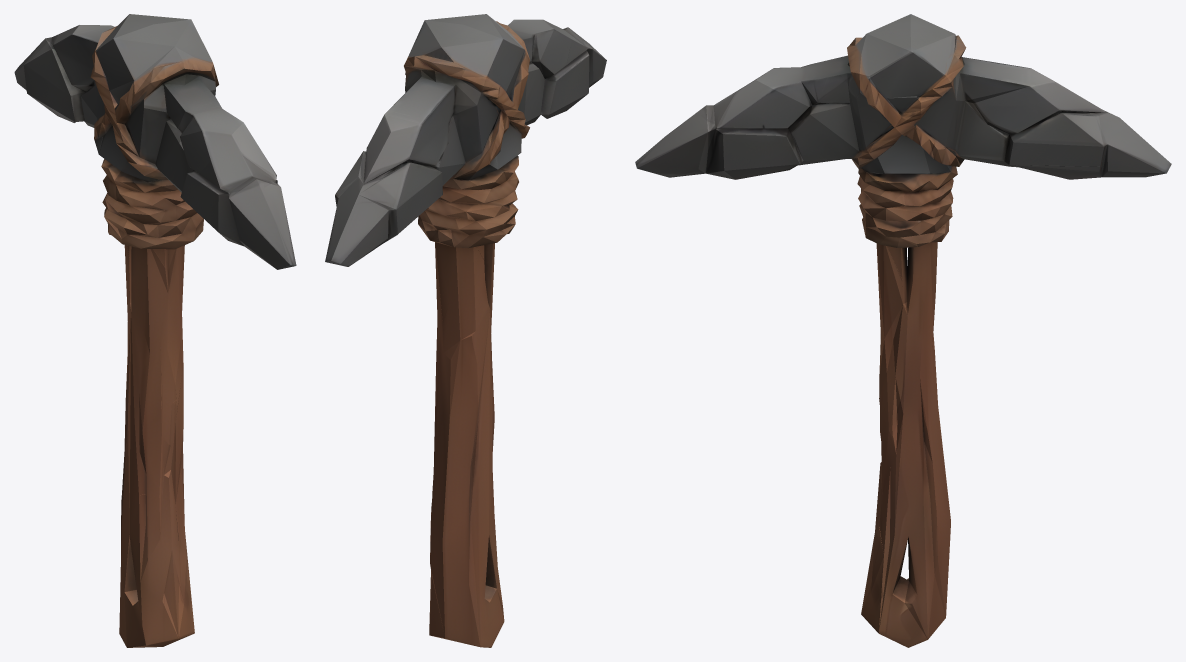
File: base_basic_pbr.fbx
The picture shows the model from 3 angles, left to right: view 1: azimuth 30°, elevation 25°; view 2: azimuth 150°, elevation 25°; view 3: azimuth 270°, elevation 25°; orthographic projection.
Parts seen in each view (by area): view 1: model; view 2: model; view 3: model.
Part boxes in pixels (box(x1,y1,x2,y2)): model: box(14, 14, 296, 647); model: box(325, 14, 606, 647); model: box(635, 14, 1171, 647).
Size of the model in its own units: 28.85 by 175 by 141.
Materials: 1 (1 with a texture image).
